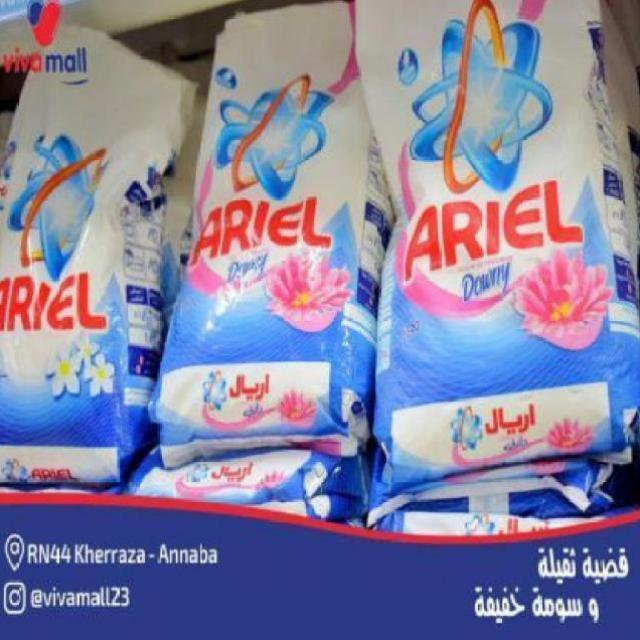Detergent: (354, 0, 631, 484), (157, 14, 377, 443), (0, 3, 163, 483)
